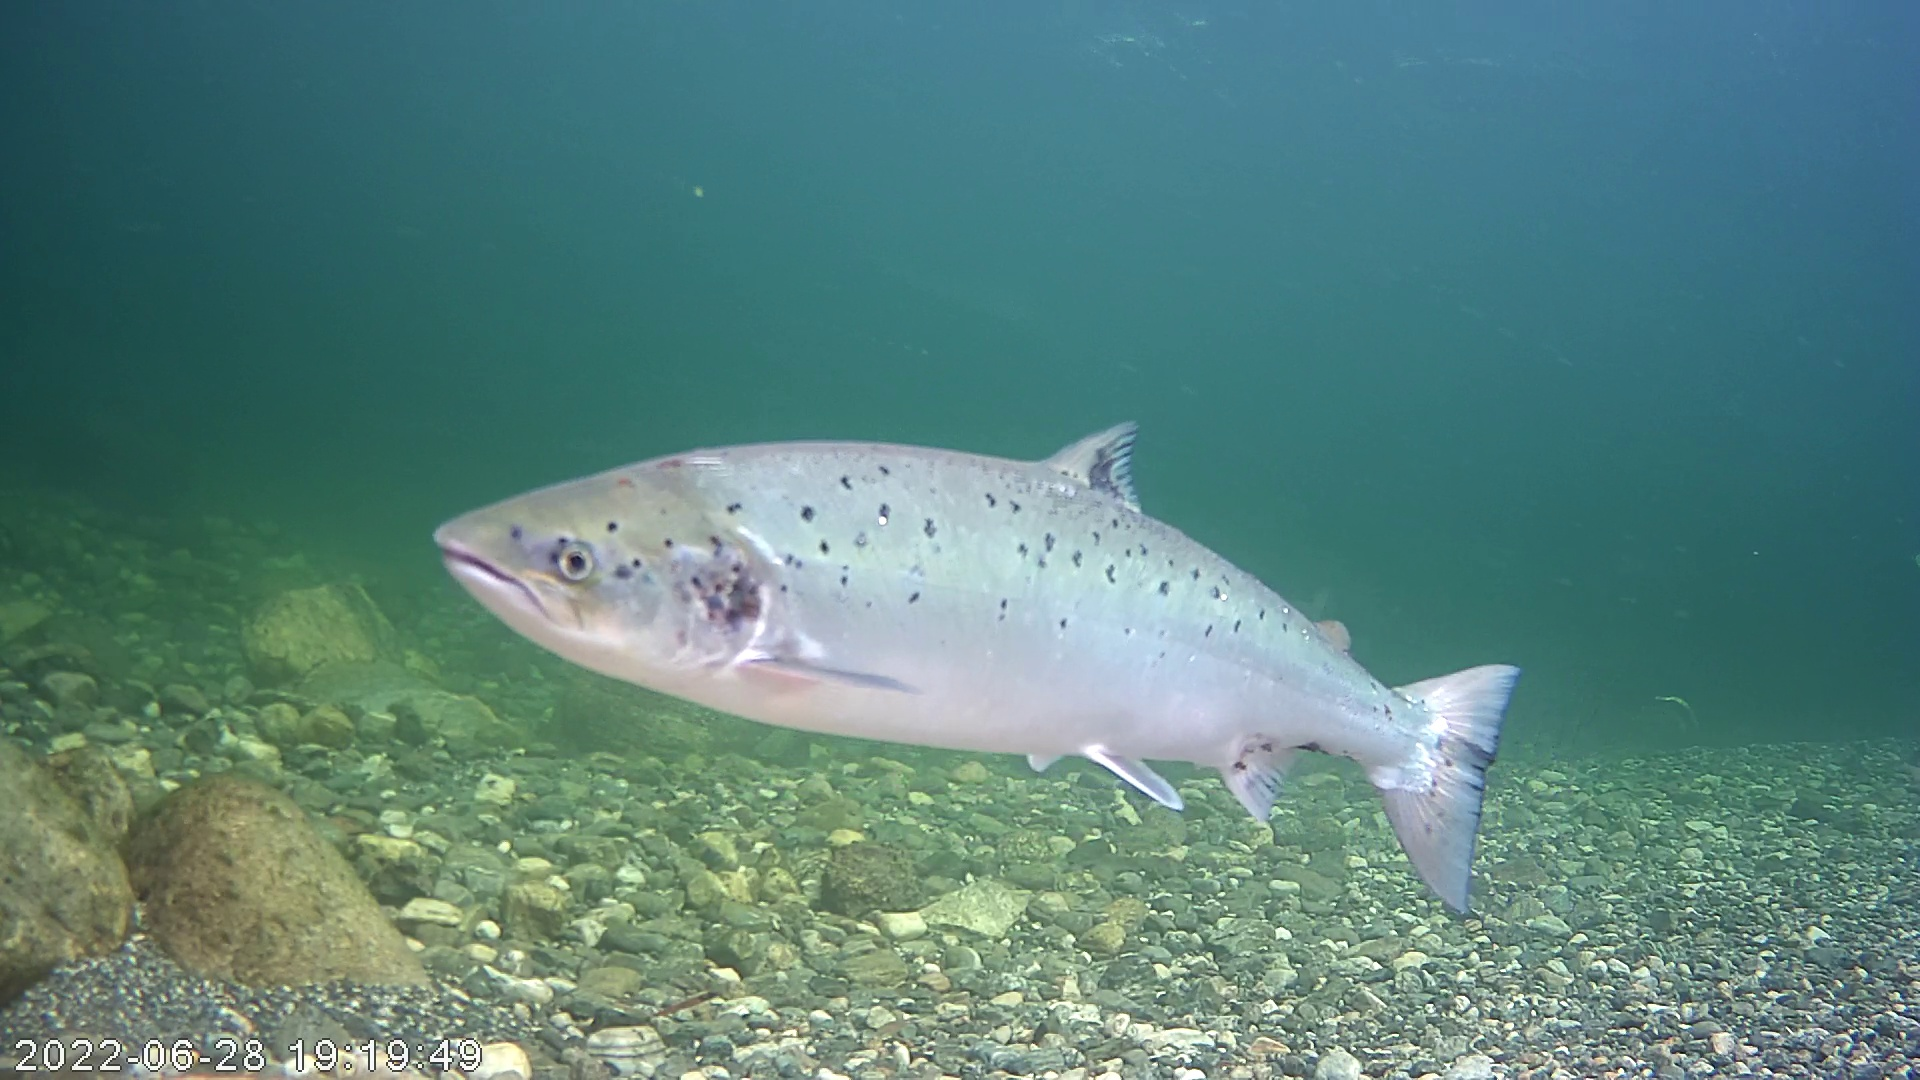salmon: (458, 310, 1545, 953)
